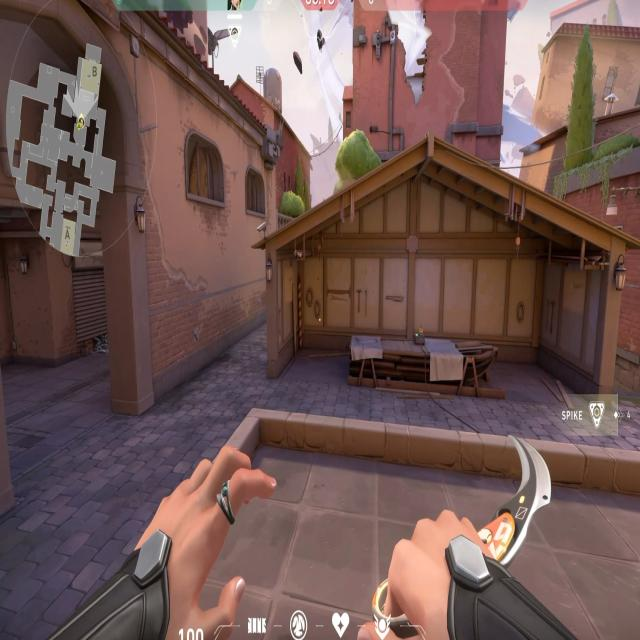B_Garage_Left: (264, 244, 391, 393)
Throwables: (181, 126, 227, 215), (243, 162, 269, 224)
